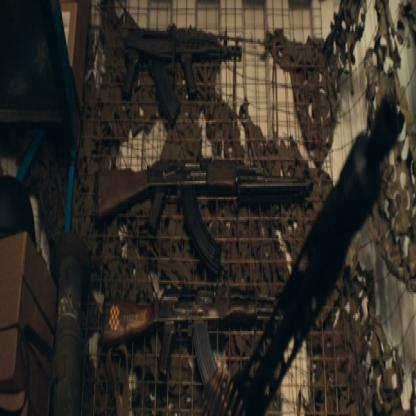Guns: (92, 152, 313, 274), (97, 284, 291, 403), (122, 18, 243, 126)
